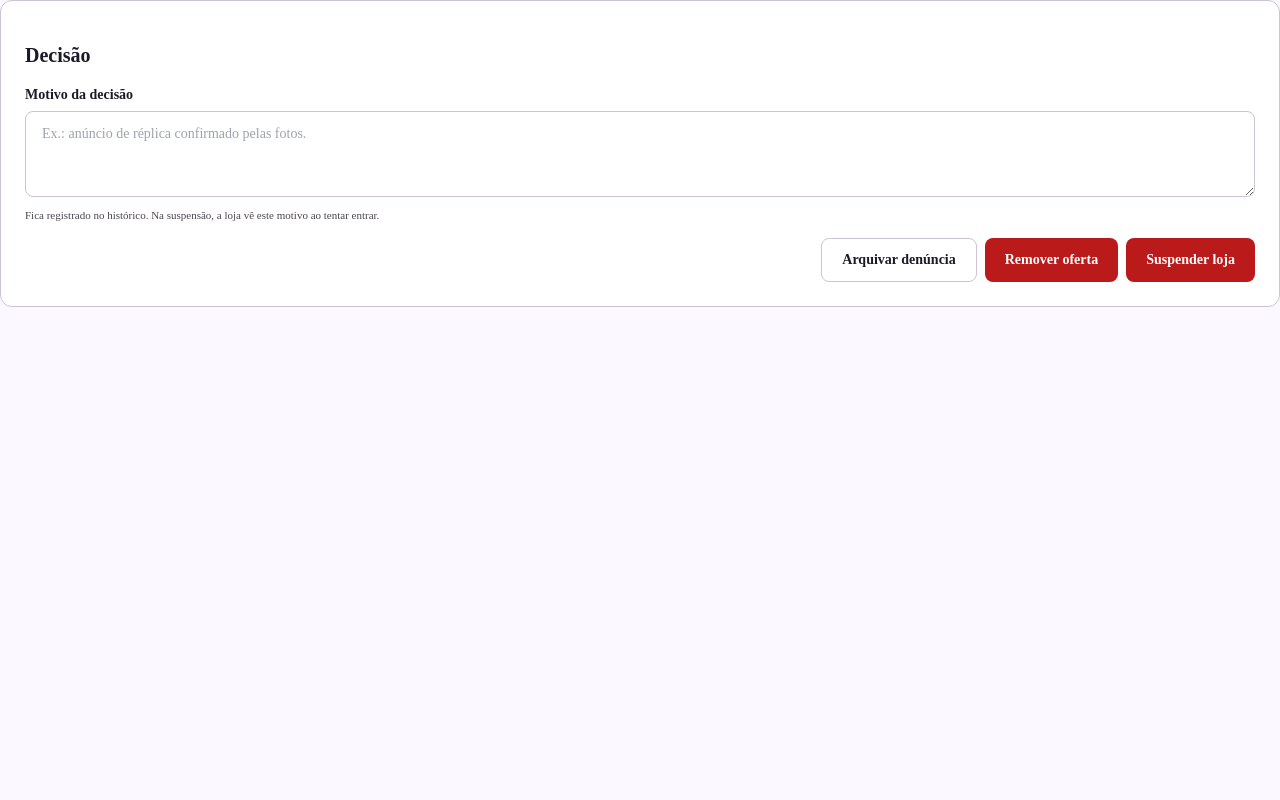
it: moderation forms (VES-44) › asks before removing the offer
Click the button "Remover oferta".
click(1052, 260)  # box left=985, top=238, right=1118, bottom=282
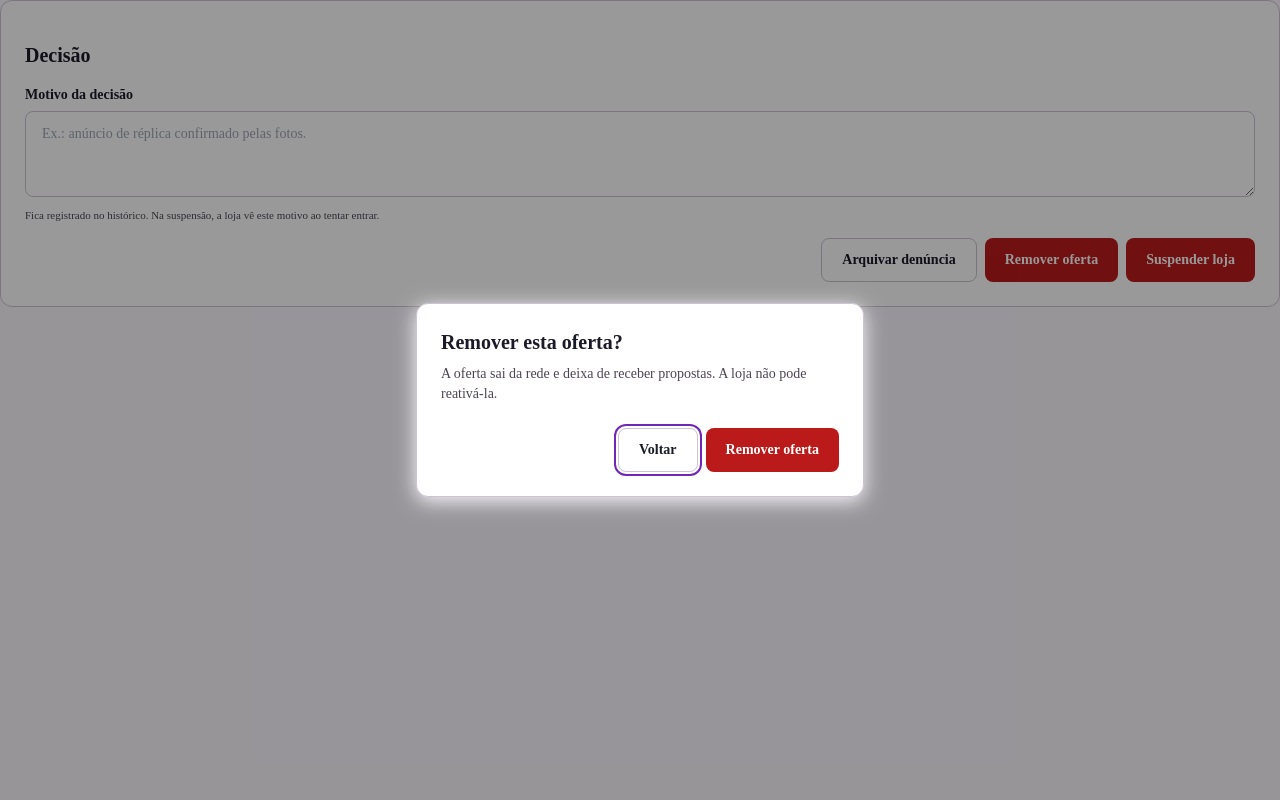
Now the heading "Remover esta oferta?" is shown, box left=441, top=331, right=623, bottom=353
Click the button "Remover oferta" below "Remover esta oferta?".
click(772, 450)  # box left=706, top=428, right=839, bottom=472
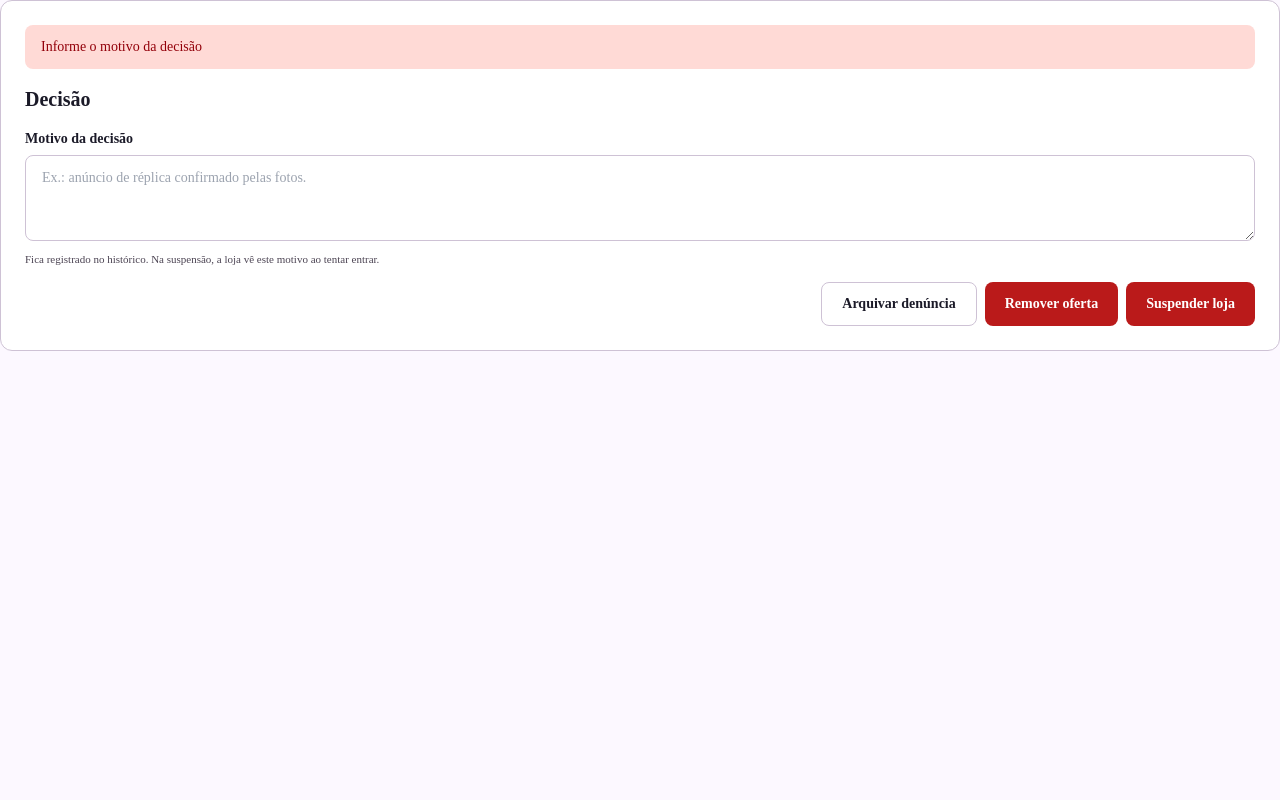
Now the message reads "Informe o motivo da decisão", box left=41, top=39, right=202, bottom=54
